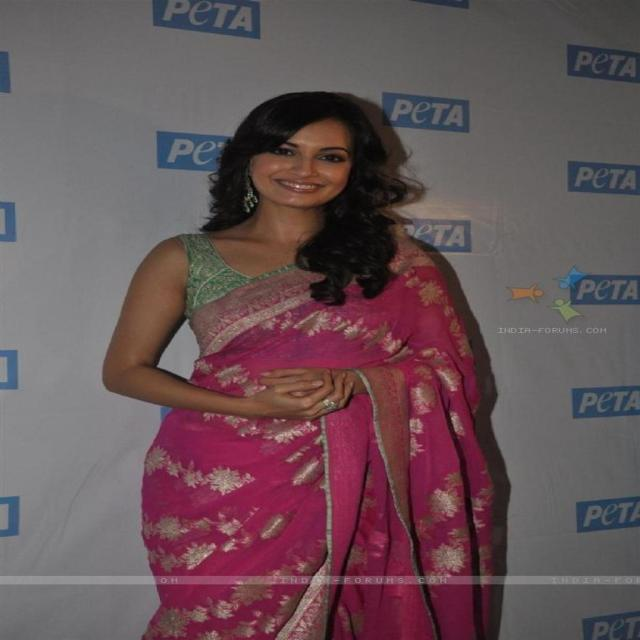Face: (245, 126, 364, 212)
